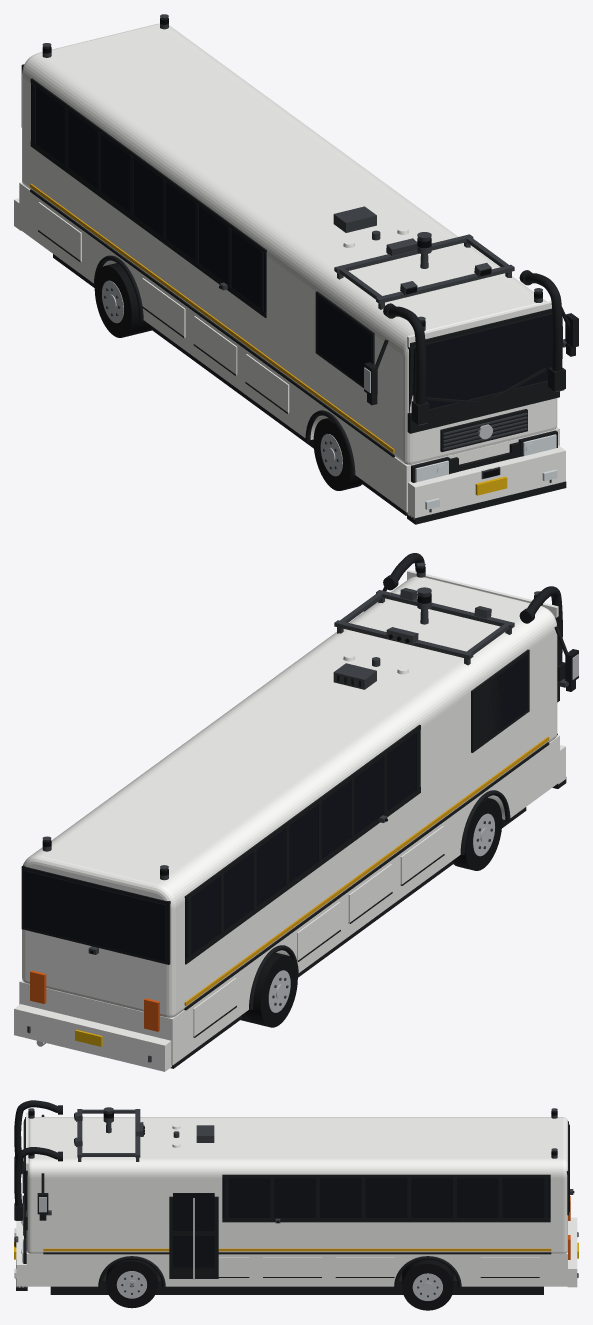
File: bharat-bus-av.glb
The picture shows the model from 3 angles, top to bottom: view 1: azimuth 30°, elevation 25°; view 2: azimuth 150°, elevation 25°; view 3: azimuth 270°, elevation 25°; orthographic projection. The views are drawn at different scales.
Parts seen in each view (by area): view 1: body_shell, side_glazing, body_skirt, windshield, front_bumper, driver_window, front_fascia_bar, wheel_rear_l2_tire, coachline_gold, coachline_black, roof_rail_upper, wheel_front_l_tire (+16 smaller); view 2: body_shell, body_skirt, side_glazing, rear_window, rear_bumper, driver_window_frame, wheel_rear_l2_tire, coachline_gold, driver_window, rear_surround, coachline_black, roof_rail_upper (+12 smaller); view 3: body_shell, side_glazing, body_skirt, chassis_underframe, coachline_gold, roof_rail_upper, waist_rail_lower, wheel_rear_r2_tire, door_glass_upper, wheel_front_r_tire, door_frame, coachline_black (+14 smaller).
Part boxes in pixels (left/top/right/bottom): body_shell: left=22, top=23, right=557, bottom=464; side_glazing: left=31, top=83, right=266, bottom=312; body_skirt: left=19, top=182, right=559, bottom=512; windshield: left=413, top=314, right=552, bottom=408; front_bumper: left=407, top=445, right=565, bottom=519; driver_window: left=317, top=296, right=370, bottom=384; front_fascia_bar: left=407, top=380, right=559, bottom=433; wheel_rear_l2_tire: left=94, top=263, right=147, bottom=337; coachline_gold: left=30, top=183, right=394, bottom=452; coachline_black: left=30, top=189, right=394, bottom=457; roof_rail_upper: left=30, top=78, right=266, bottom=254; wheel_front_l_tire: left=313, top=418, right=362, bottom=490; body_shell: left=22, top=576, right=557, bottom=1017; body_skirt: left=19, top=735, right=559, bottom=1065; side_glazing: left=185, top=730, right=420, bottom=958; rear_window: left=24, top=870, right=165, bottom=961; rear_bumper: left=14, top=1004, right=171, bottom=1071; driver_window_frame: left=471, top=649, right=529, bottom=752; wheel_rear_l2_tire: left=245, top=952, right=297, bottom=1027; coachline_gold: left=184, top=736, right=549, bottom=1005; driver_window: left=488, top=654, right=527, bottom=734; rear_surround: left=21, top=865, right=170, bottom=964; coachline_black: left=184, top=742, right=549, bottom=1010; roof_rail_upper: left=184, top=724, right=420, bottom=900; body_shell: left=26, top=1117, right=567, bottom=1253; side_glazing: left=222, top=1178, right=550, bottom=1218; body_skirt: left=26, top=1251, right=567, bottom=1286; chassis_underframe: left=50, top=1271, right=543, bottom=1294; coachline_gold: left=43, top=1248, right=551, bottom=1251; roof_rail_upper: left=222, top=1174, right=550, bottom=1178; waist_rail_lower: left=222, top=1218, right=550, bottom=1222; wheel_rear_r2_tire: left=402, top=1259, right=453, bottom=1310; door_glass_upper: left=173, top=1193, right=214, bottom=1230; wheel_front_r_tire: left=106, top=1259, right=157, bottom=1308; door_frame: left=169, top=1196, right=218, bottom=1278; coachline_black: left=43, top=1252, right=551, bottom=1254.
Bounding box in the file's own units: 3.49 × 3.95 × 11.68.
